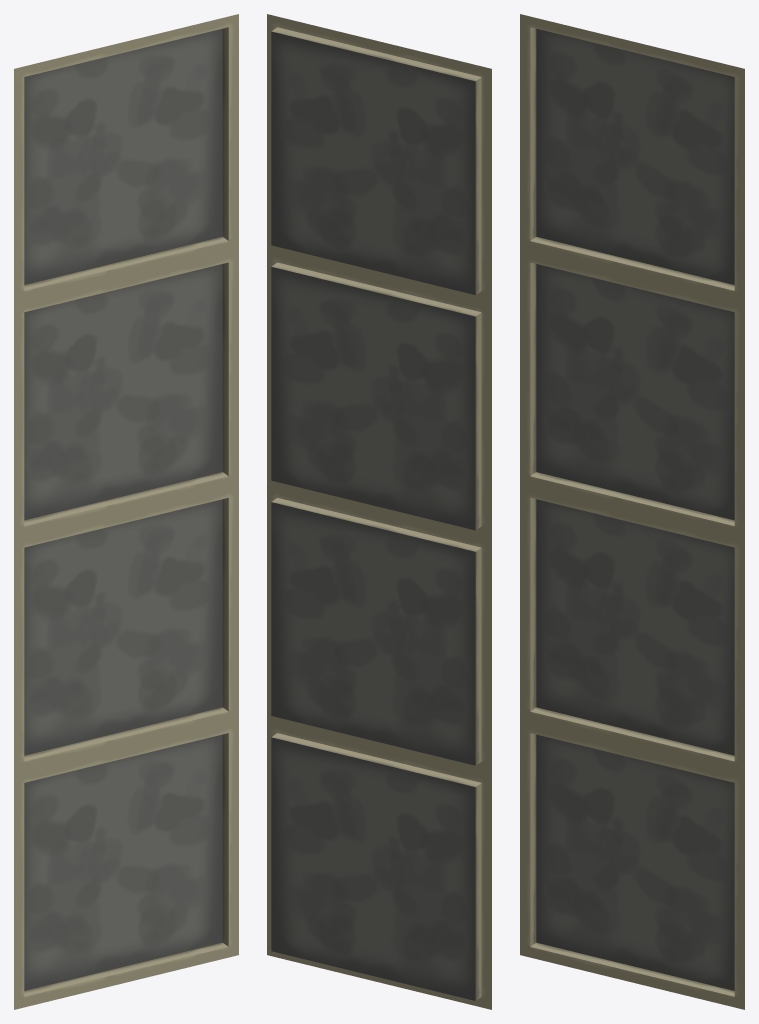
The model's file is TempleWall1x4.obj.
3 views of the same model, side by side, from view 1: azimuth 30°, elevation 25°; view 2: azimuth 150°, elevation 25°; view 3: azimuth 330°, elevation 25° (orthographic).
Visible parts, largest first — view 1: 1x4; view 2: 1x4; view 3: 1x4.
Boxes of the visible parts, x1,y1,x2,y2 form: 1x4: [14, 14, 238, 1009]; 1x4: [267, 14, 491, 1009]; 1x4: [520, 14, 744, 1009].
Bounding box in the file's own units: 22 × 88 × 1.
1 material, 1 textured.
